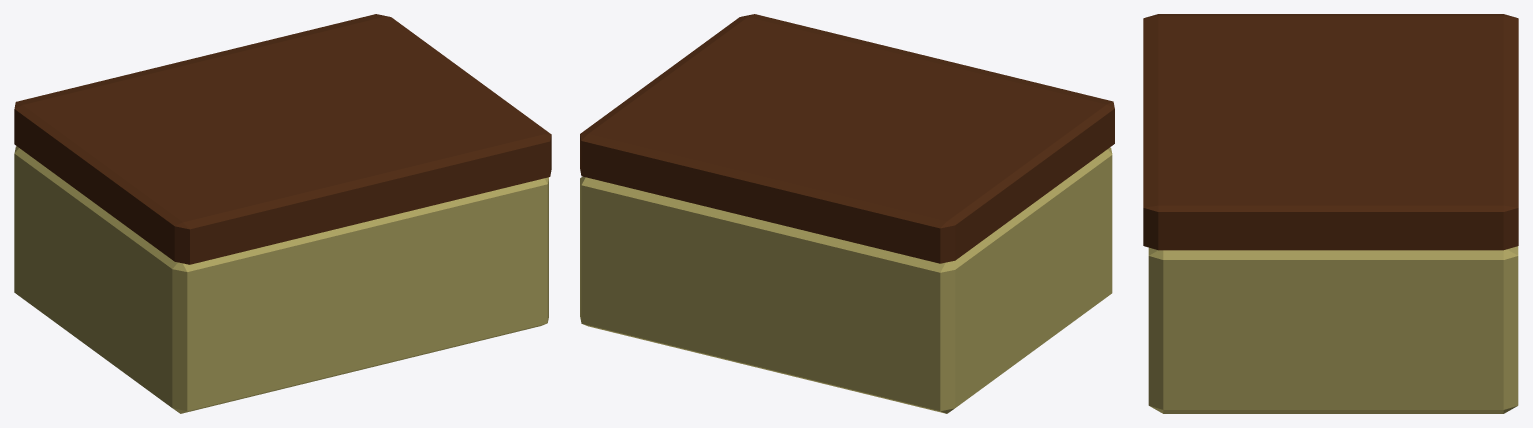
File: darktoplightbtm.fbx
3 renders of one model, left to right at view 1: azimuth 30°, elevation 25°; view 2: azimuth 150°, elevation 25°; view 3: azimuth 270°, elevation 25°, orthographic. The views are drawn at different scales.
Visible parts, largest first — view 1: pCube7; view 2: pCube7; view 3: pCube7.
Part boxes in pixels (box(x1,y1,x2,y2)): pCube7: box(14, 14, 551, 413); pCube7: box(580, 14, 1114, 413); pCube7: box(1143, 14, 1518, 413).
Size of the model in its own units: 152 by 74.53 by 122.
